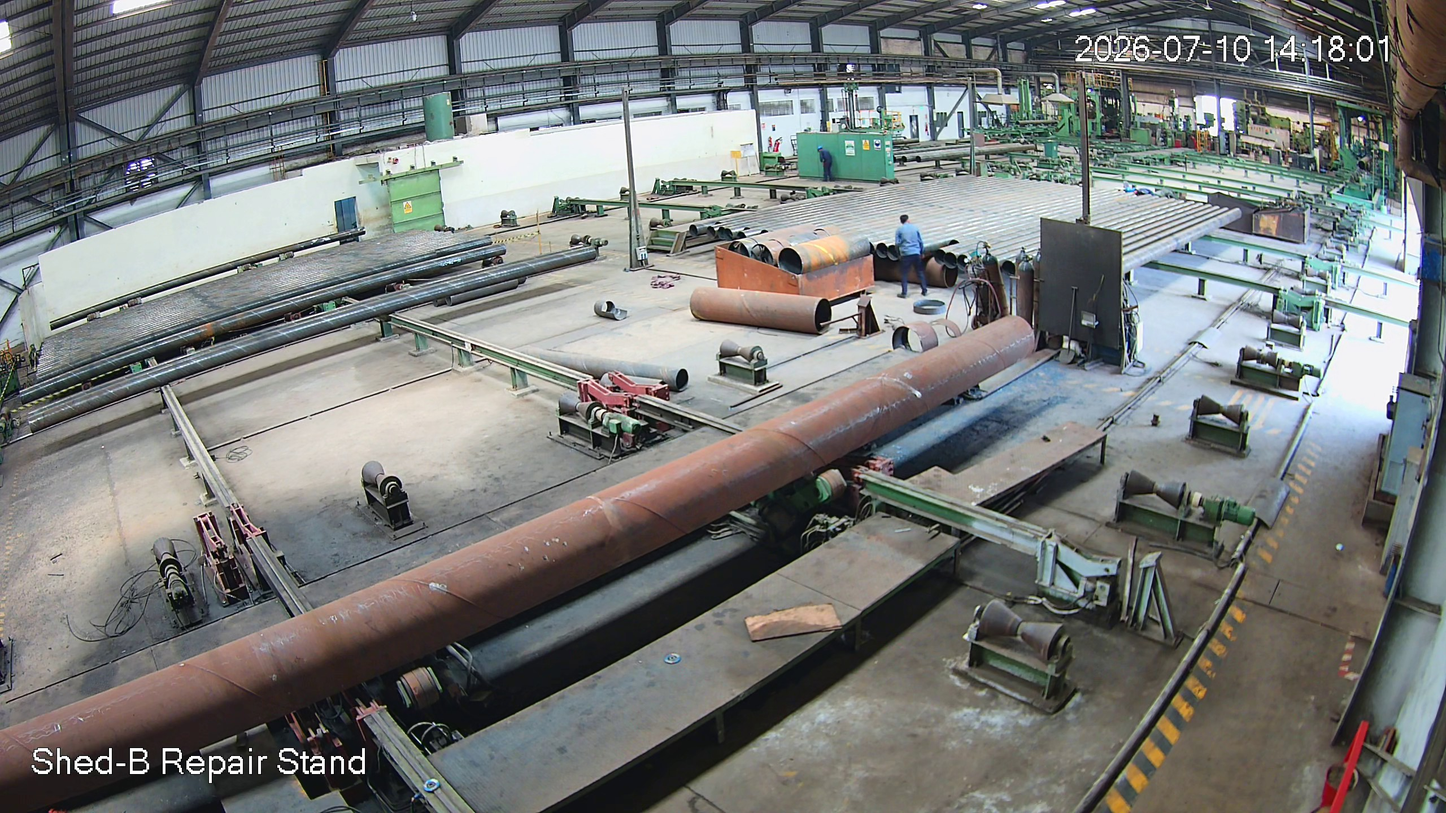Helmet: (898, 213, 916, 232)
Person: (892, 216, 931, 301)
